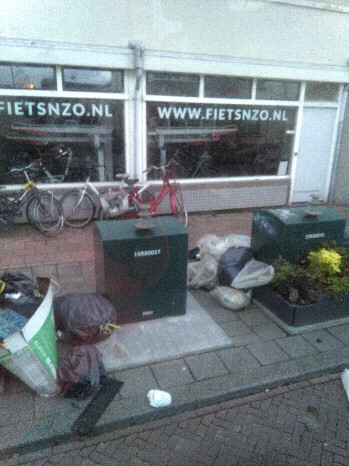Container: (91, 221, 188, 312), (262, 207, 343, 256)
Rest: (4, 274, 64, 369), (32, 326, 108, 395), (68, 294, 124, 343), (199, 236, 232, 304), (223, 244, 259, 292)
